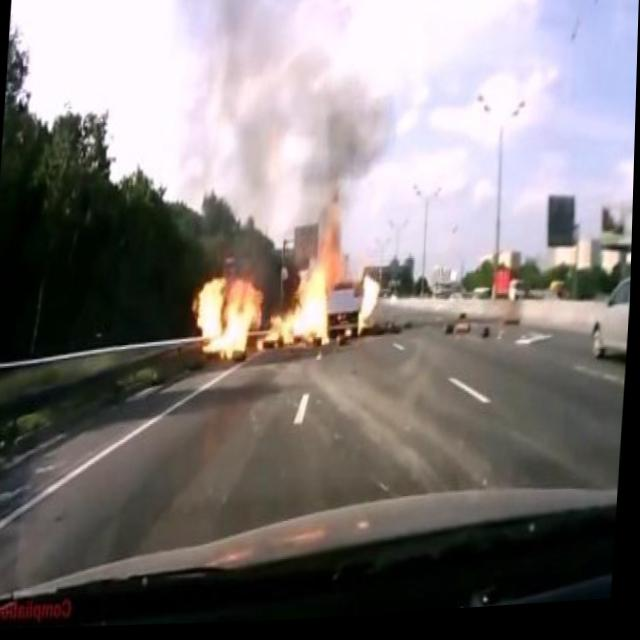fire: (188, 229, 340, 379), (357, 269, 386, 341)
